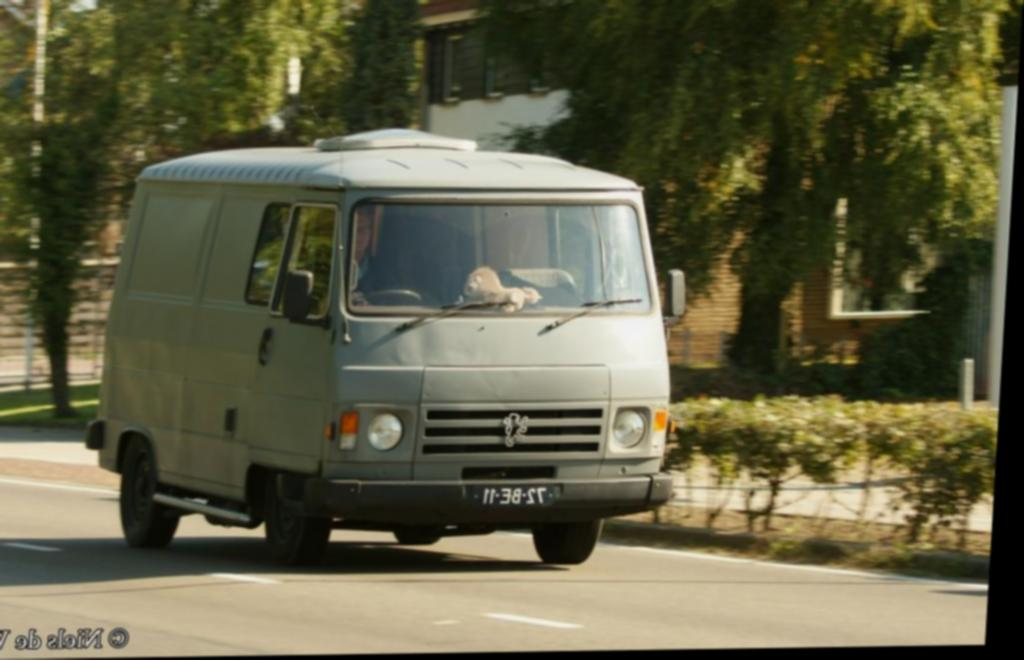License_Plate: (476, 482, 556, 505)
